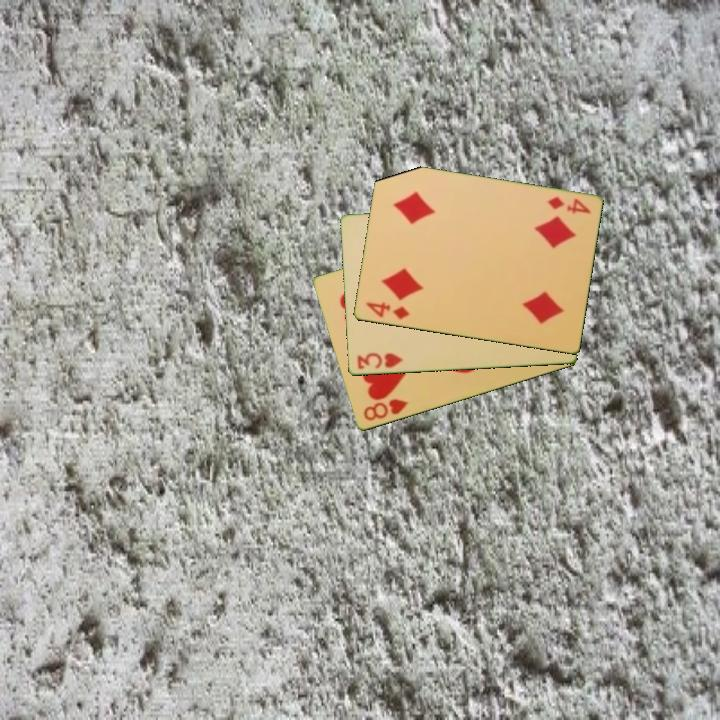3h: (354, 349, 405, 373)
4d: (362, 299, 412, 323), (544, 193, 594, 217)
8h: (360, 396, 411, 424)
